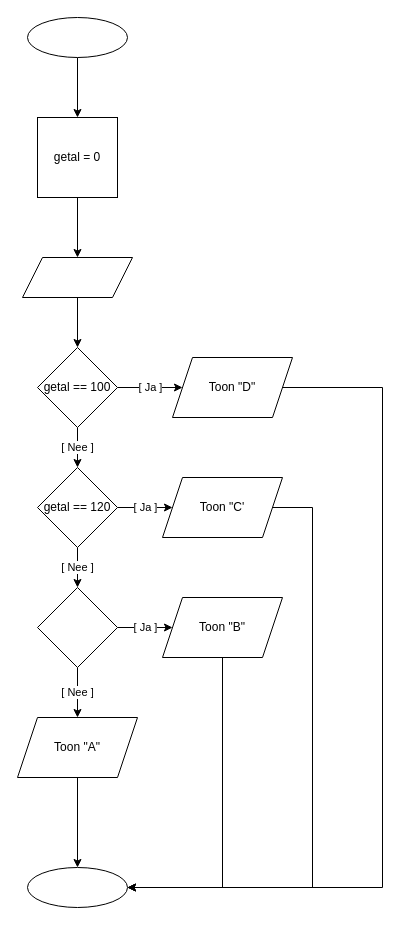
The diagram is 408 pixels wide and 925 high, and some of its shapes have lost their labels. The centre of each missing label's shape, as x and y in pixels:
"Begin" belongs at point (77, 37).
"Einde" belongs at point (77, 887).
"getal = input" belongs at point (77, 277).
"getal == 140" belongs at point (77, 627).
